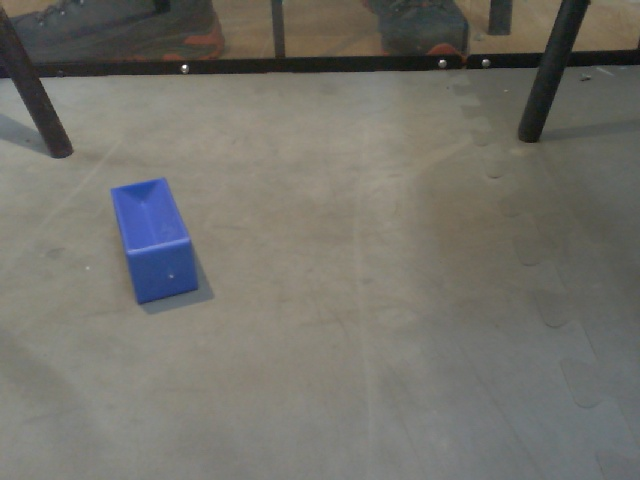BlueSample: (109, 171, 201, 311)
